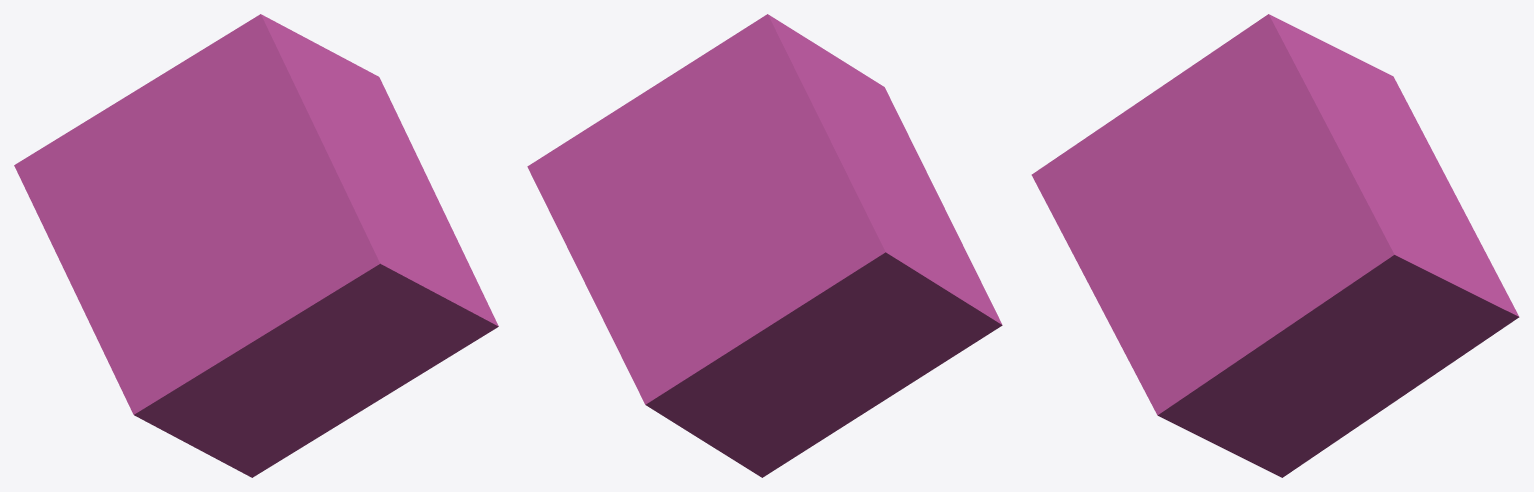
File: gift.dae
3 renders of one model, left to right at view 1: azimuth 30°, elevation 25°; view 2: azimuth 150°, elevation 25°; view 3: azimuth 270°, elevation 25°, orthographic. The views are drawn at different scales.
Parts seen in each view (by area): view 1: Cube; view 2: Cube; view 3: Cube.
Boxes of the visible parts, x1,y1,x2,y2 form: Cube: (14,14,498,477); Cube: (527,14,1002,477); Cube: (1031,14,1519,477).
Bounding box in the file's own units: 1.56 × 1.81 × 1.9.
